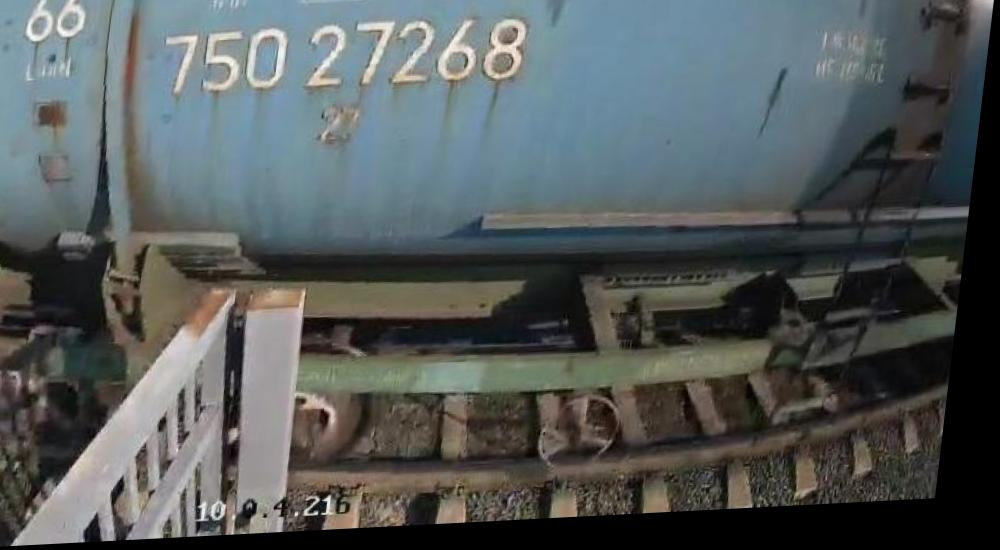Wagon-number: (156, 13, 534, 105)
